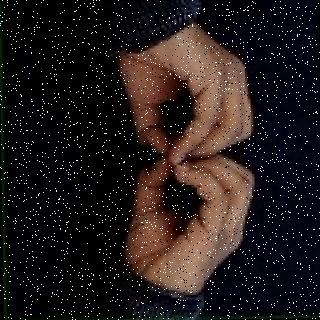B: (103, 29, 264, 296)
